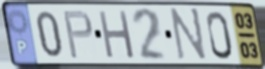0: (204, 9, 235, 62), (34, 9, 65, 59)
2: (130, 6, 169, 63)
H: (97, 9, 137, 61)
N: (169, 6, 209, 64)
P: (61, 8, 95, 61)
